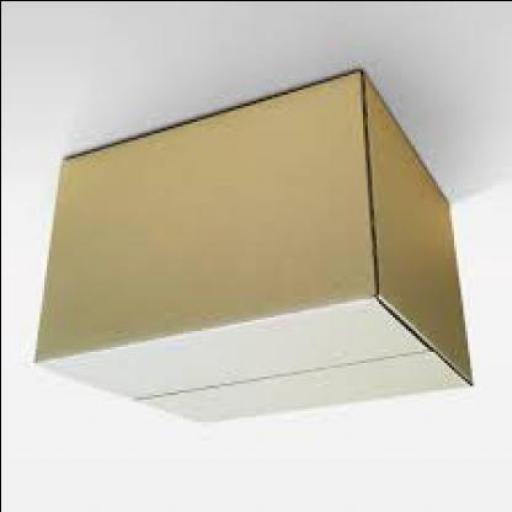cardboard: (29, 71, 469, 425), (32, 71, 374, 361), (34, 298, 467, 423), (362, 72, 471, 386)
